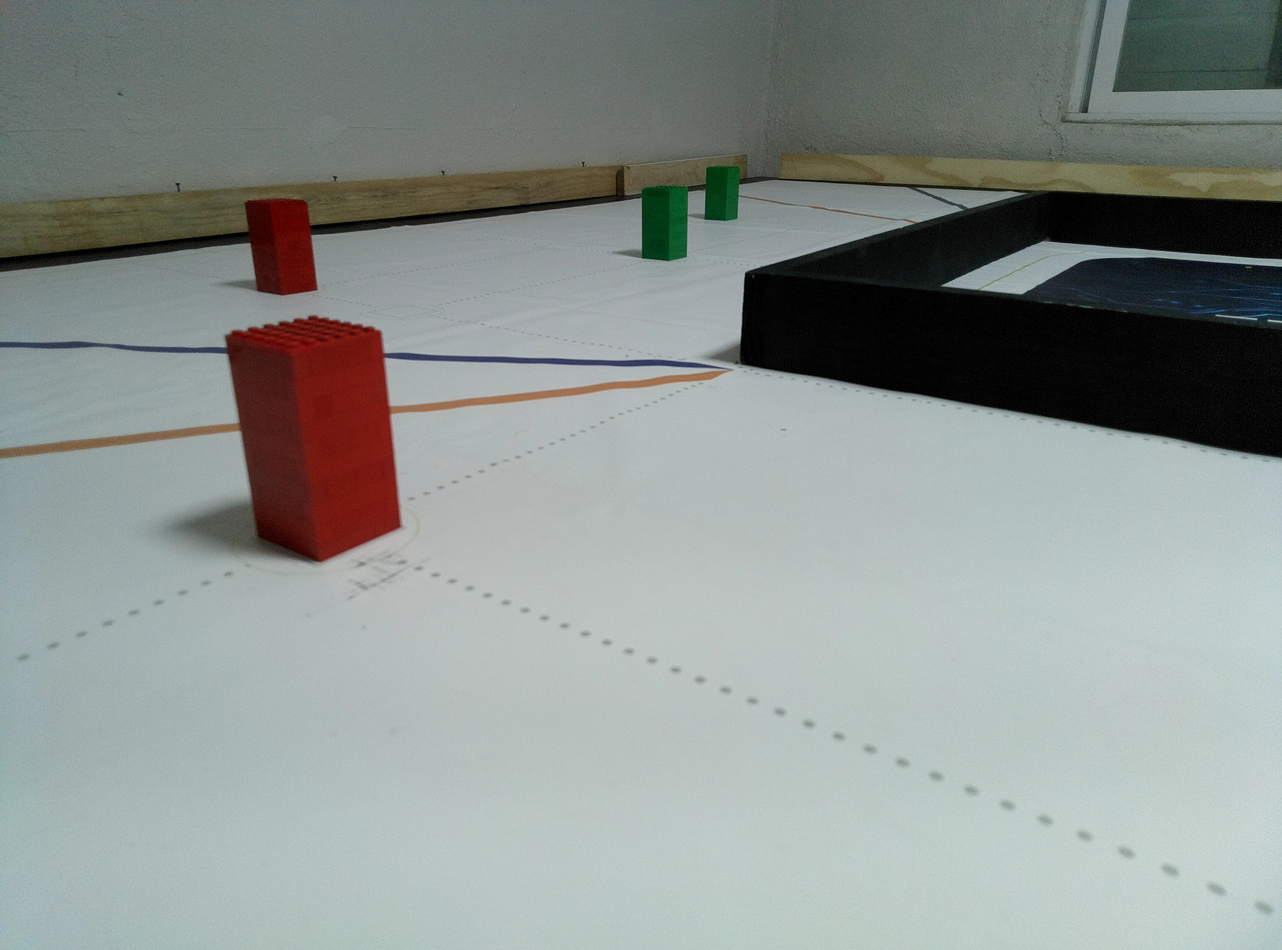greenbox: (243, 198, 319, 299), (641, 183, 689, 261), (704, 166, 740, 221)
redbox: (222, 315, 403, 563)
